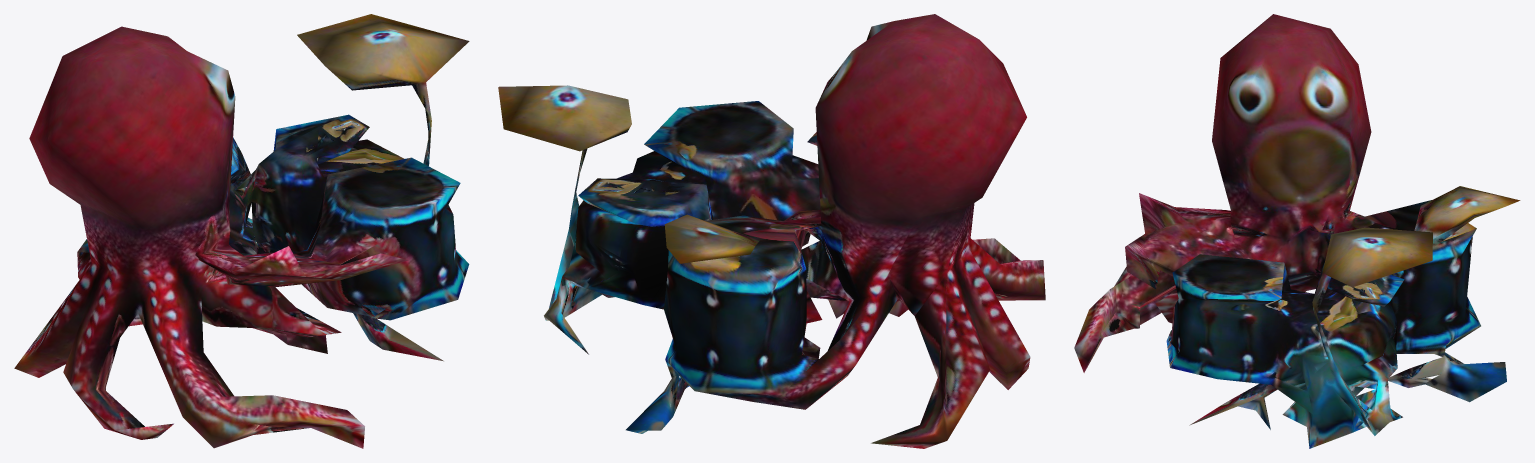
The model's file is a56bda251b6f_4e23c792b6f8_Underwater_Octopus_.glb.
3 renders of one model, left to right at view 1: azimuth 30°, elevation 25°; view 2: azimuth 150°, elevation 25°; view 3: azimuth 270°, elevation 25°, orthographic. The views are drawn at different scales.
Visible parts, largest first — view 1: mesh; view 2: mesh; view 3: mesh.
Part boxes in pixels (box(x1,y1,x2,y2)): mesh: box(14, 14, 469, 448); mesh: box(498, 14, 1045, 448); mesh: box(1074, 14, 1520, 448).
Size of the model in its own units: 1.02 by 0.7506 by 0.9919.
Materials: 1 (1 with a texture image).
